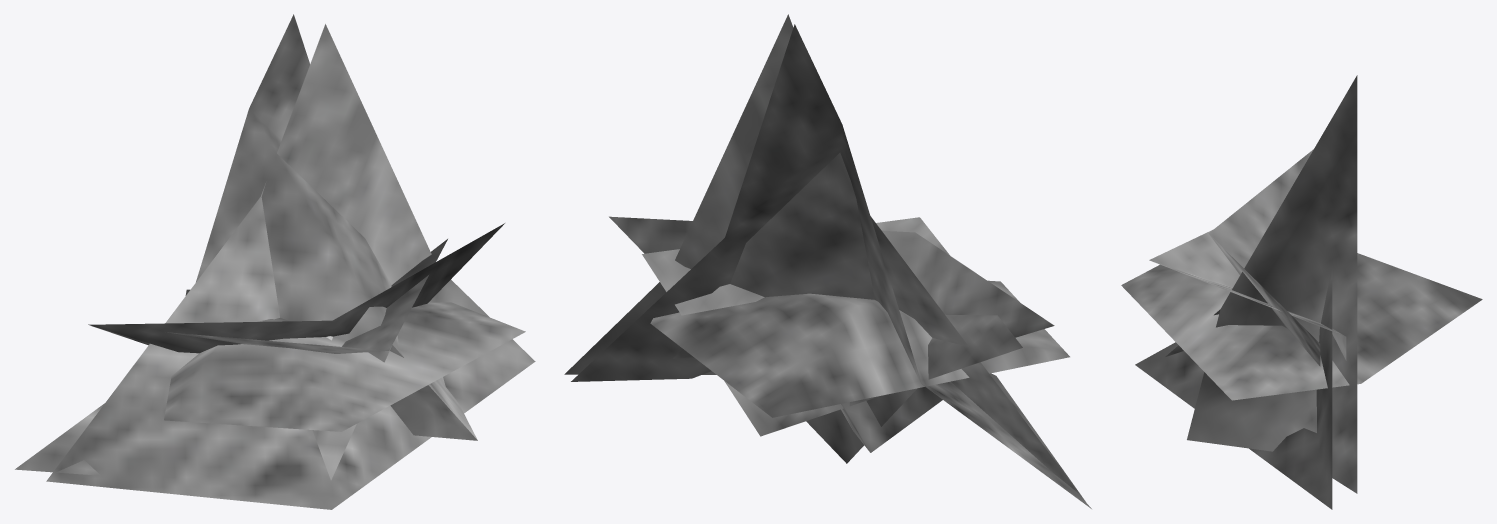
File: SpiderTrash.fbx
3 renders of one model, left to right at view 1: azimuth 30°, elevation 25°; view 2: azimuth 150°, elevation 25°; view 3: azimuth 270°, elevation 25°, orthographic. The views are drawn at different scales.
Visible parts, largest first — view 1: SpiderTrashWall, SpiderSpawnWall, SmallSpiderTrash, SpiderTrashCelling1, SpiderTrashCelling2; view 2: SpiderTrashWall, SpiderSpawnWall, SmallSpiderTrash, SpiderTrashCelling1, SpiderTrashCelling2; view 3: SpiderSpawnWall, SmallSpiderTrash, SpiderTrashWall, SpiderTrashCelling1, SpiderTrashCelling2.
Part boxes in pixels (x1,y1,x2,y2): SpiderTrashWall: (46,24,535,509); SpiderSpawnWall: (15,14,477,480); SmallSpiderTrash: (164,289,525,431); SpiderTrashCelling1: (88,223,504,353); SpiderTrashCelling2: (92,239,447,353); SpiderTrashWall: (564,14,1085,501); SpiderSpawnWall: (571,24,1091,508); SmallSpiderTrash: (650,280,1069,417); SpiderTrashCelling1: (609,216,1054,463); SpiderTrashCelling2: (642,217,1022,436); SpiderSpawnWall: (1165,75,1357,493); SmallSpiderTrash: (1121,253,1482,400); SpiderTrashWall: (1135,266,1332,509); SpiderTrashCelling1: (1208,149,1320,366); SpiderTrashCelling2: (1149,229,1346,360).
Bounding box in the file's own units: 278 × 219 × 175.
